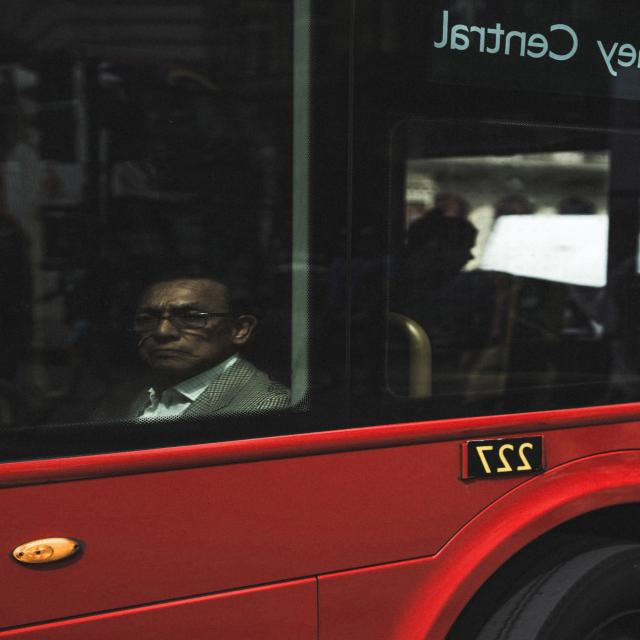adult: (35, 266, 289, 448)
